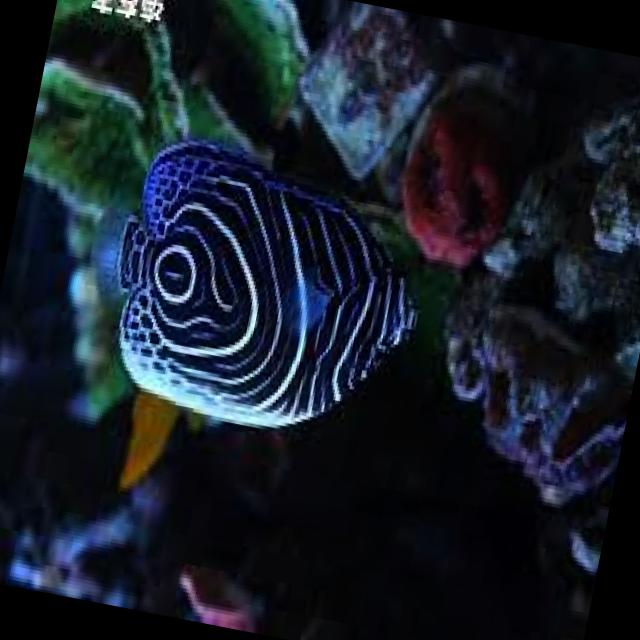AngelFish: (65, 122, 443, 454)
